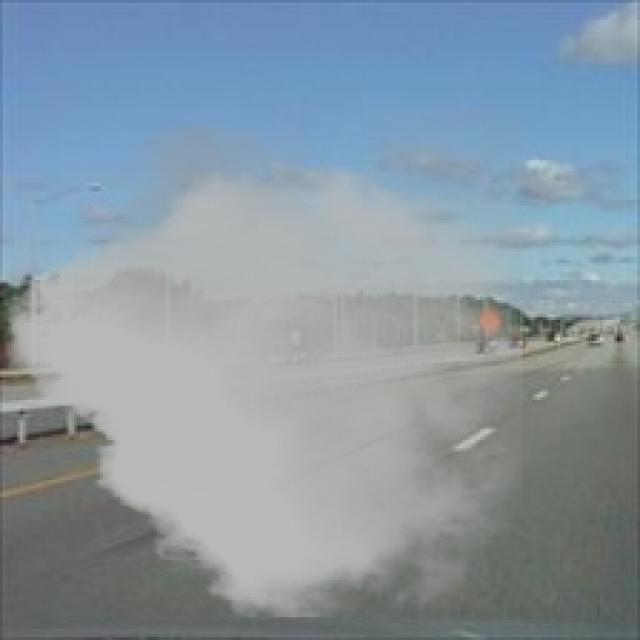smoke: (6, 109, 523, 626)
